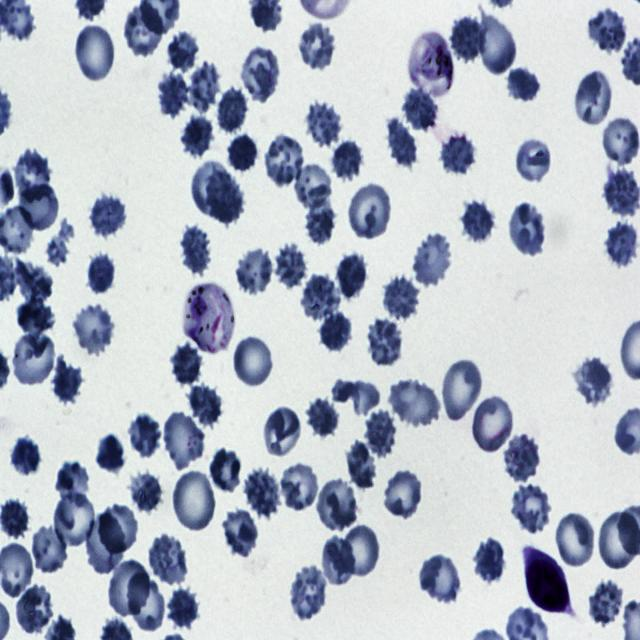leukocyte: (522, 545, 575, 619)
red blood cell: (170, 467, 218, 534), (470, 391, 515, 456), (106, 555, 150, 619), (346, 182, 394, 240), (11, 329, 58, 388), (162, 410, 206, 471), (74, 21, 117, 83), (555, 509, 598, 570), (573, 68, 615, 129), (122, 2, 166, 60), (127, 573, 168, 635), (338, 522, 381, 580), (314, 477, 360, 531), (570, 352, 614, 407), (411, 231, 454, 287), (53, 492, 94, 550), (418, 552, 462, 606), (232, 334, 275, 389), (87, 514, 125, 576), (390, 380, 439, 428), (442, 359, 481, 419), (262, 134, 306, 187), (480, 16, 517, 79), (288, 566, 329, 622), (240, 45, 280, 102), (381, 468, 424, 521), (97, 501, 139, 555), (75, 298, 114, 356), (584, 6, 628, 56), (291, 160, 333, 211), (234, 244, 275, 296), (508, 200, 546, 256), (13, 148, 52, 202), (299, 274, 340, 324), (206, 172, 247, 222), (148, 533, 188, 584), (280, 463, 320, 514), (320, 533, 357, 588), (192, 164, 231, 216), (366, 318, 406, 368), (500, 430, 540, 480), (244, 467, 282, 519), (510, 485, 552, 532), (17, 183, 58, 231), (87, 189, 127, 238), (515, 133, 552, 185), (382, 274, 421, 323), (586, 580, 625, 629), (12, 587, 54, 632), (207, 447, 246, 495), (264, 407, 302, 456), (16, 256, 54, 305), (402, 81, 438, 132), (603, 169, 640, 218), (176, 226, 212, 276), (124, 412, 162, 459), (602, 117, 640, 164), (215, 84, 250, 135), (222, 509, 258, 558), (298, 22, 334, 70), (458, 198, 496, 243), (31, 526, 68, 572), (156, 70, 190, 120), (188, 60, 220, 113), (127, 469, 163, 516), (168, 342, 204, 389), (605, 220, 640, 268), (336, 251, 368, 303), (386, 117, 419, 167), (305, 103, 343, 146), (345, 440, 377, 491), (364, 409, 396, 459), (180, 111, 214, 158), (52, 353, 82, 405), (449, 14, 482, 61), (56, 460, 90, 504), (188, 386, 226, 425), (16, 299, 56, 336), (439, 134, 475, 175), (474, 536, 506, 582), (306, 196, 336, 245), (274, 245, 308, 288), (167, 587, 200, 631), (331, 138, 364, 182), (84, 251, 116, 295), (306, 397, 339, 439), (168, 27, 198, 72), (320, 308, 352, 350), (506, 65, 542, 101), (10, 435, 42, 475), (1, 497, 30, 539), (227, 135, 258, 174), (96, 432, 125, 472)
trophozoite: (185, 280, 234, 354), (409, 31, 453, 98)
